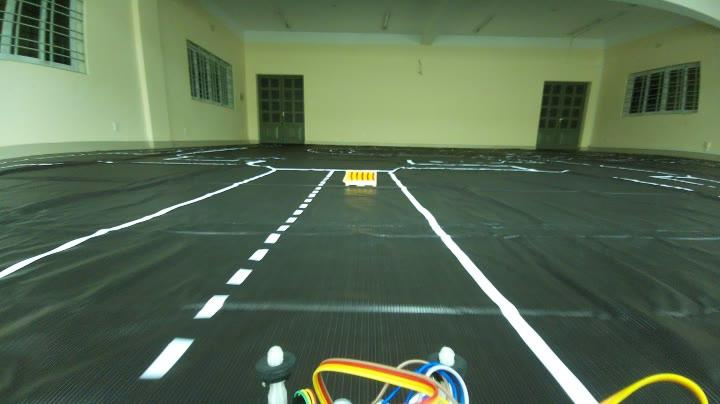roadblock: (336, 161, 381, 194)
